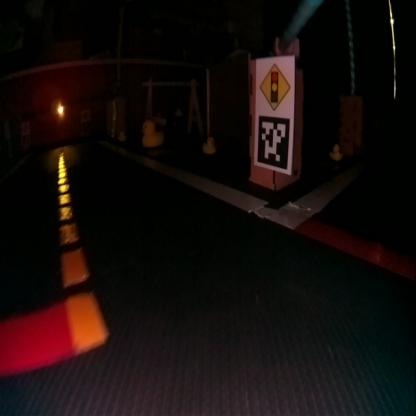Duckie: (141, 119, 163, 144), (201, 137, 214, 152), (330, 144, 341, 158)
QR code: (255, 113, 290, 170)
Signal sign: (258, 63, 290, 112)
Traffic light: (57, 104, 63, 116)
